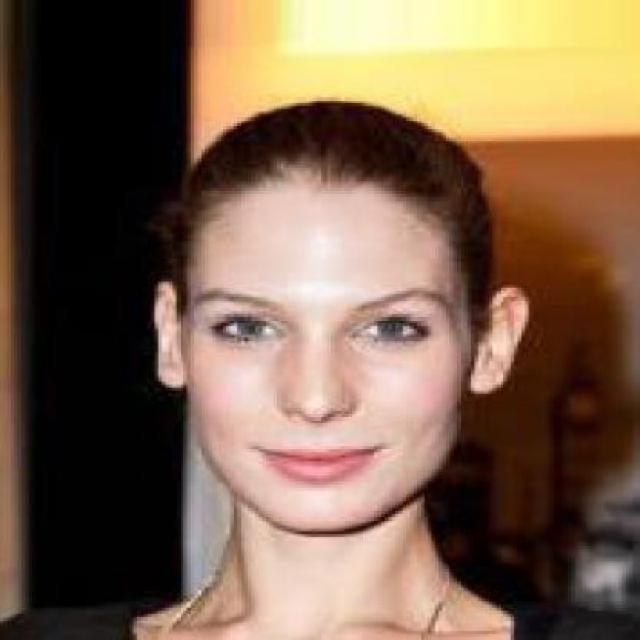closed-mouth: (246, 440, 382, 483)
